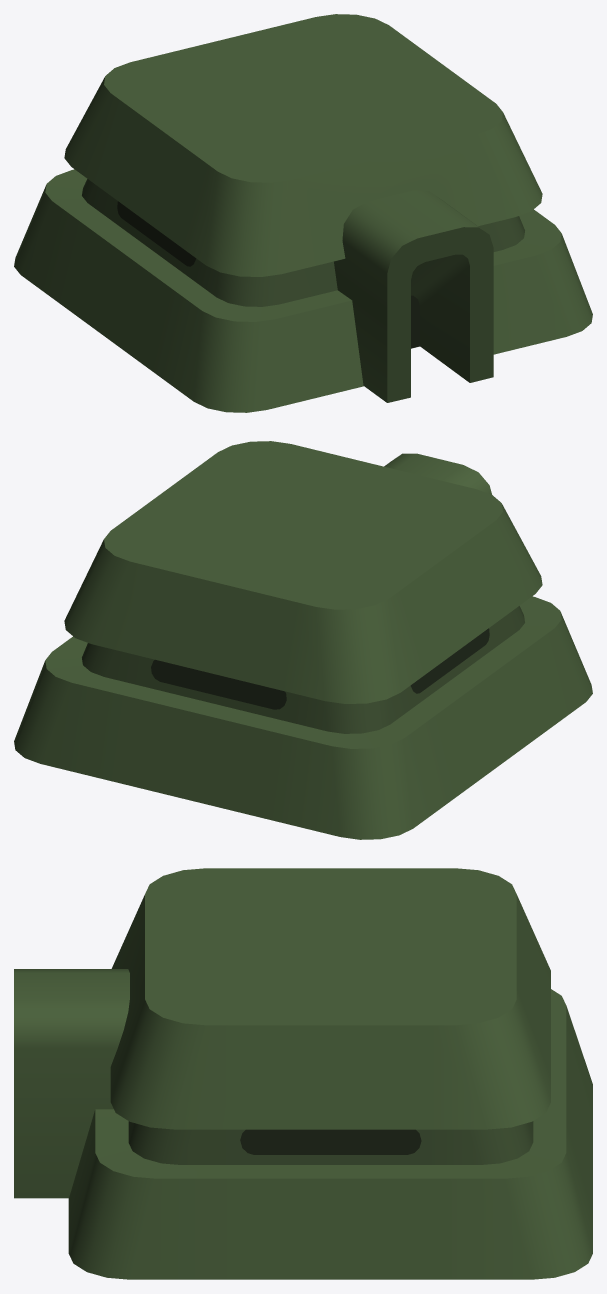
File: Bunker.fbx
The picture shows the model from 3 angles, top to bottom: view 1: azimuth 30°, elevation 25°; view 2: azimuth 150°, elevation 25°; view 3: azimuth 270°, elevation 25°; orthographic projection. The views are drawn at different scales.
Parts seen in each view (by area): view 1: Bunker; view 2: Bunker; view 3: Bunker.
Boxes of the visible parts, x1,y1,x2,y2 form: Bunker: (14,14,592,412); Bunker: (14,441,592,839); Bunker: (14,868,592,1279).
Bounding box in the file's own units: 6.92 × 3.23 × 7.64.
